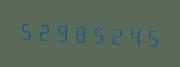eight: (71, 19, 88, 46)
five: (17, 16, 34, 44), (89, 19, 106, 47), (143, 22, 160, 50)
four: (125, 21, 142, 49)
nine: (53, 18, 70, 45)
two: (35, 17, 52, 45), (107, 20, 124, 48)
